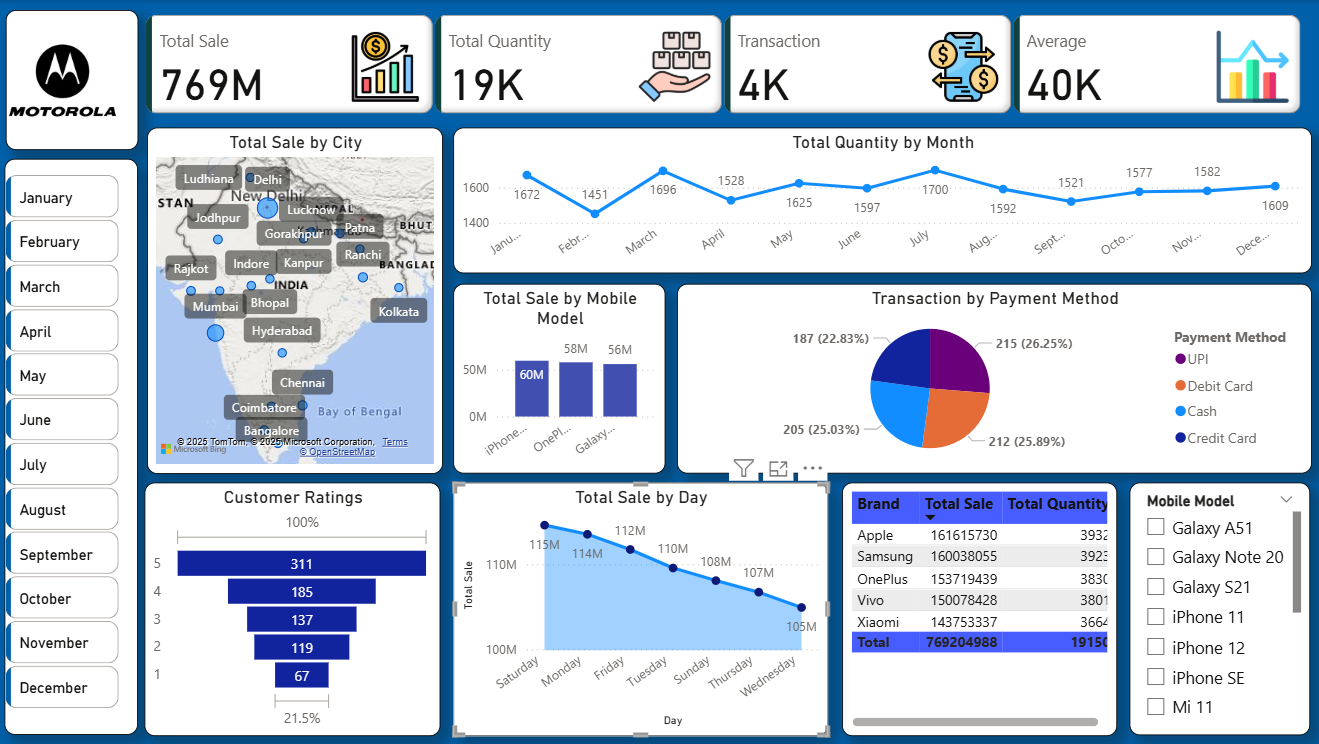

What the dashboard file says about the page in this screenshot:
{"tool":"powerbi","page":{"name":"Page 1","canvas":[1280,720],"ordinal":0},"visuals":[{"type":"shape","box":[8.4,9.7,127.9,135.1],"z":0},{"type":"image","box":[1.4,15.7,124.3,124.3],"z":1000},{"type":"shape","box":[7.2,153.2,129.1,556.2],"z":2000},{"type":"advancedSlicerVisual","fields":{"Values":["Mobile Sales Data.Date.Variation.Date Hierarchy.Month"]},"box":[4.1,164.7,119.4,526.9],"z":3000},{"type":"cardVisual","fields":{"Data":["Mobile Sales Data.Total Sale","Mobile Sales Data.Total Quantity","Mobile Sales Data.Transaction","Mobile Sales Data.Average"]},"box":[138.6,10,1124.3,105.7],"z":4000},{"type":"map","fields":{"Category":["Mobile Sales Data.City"],"Size":["Mobile Sales Data.Total Sale"]},"box":[144.8,123.1,285.9,334.2],"z":5000},{"type":"lineChart","fields":{"Category":["Mobile Sales Data.Date.Variation.Date Hierarchy.Month","Mobile Sales Data.Date.Variation.Date Hierarchy.Day"],"Y":["Mobile Sales Data.Total Quantity"]},"box":[440.4,123.1,828.8,141.2],"z":6000},{"type":"columnChart","fields":{"Category":["Mobile Sales Data.Mobile Model"],"Y":["Mobile Sales Data.Total Sale"]},"box":[440.4,273.9,205.1,183.4],"z":7000},{"type":"pieChart","fields":{"Category":["Mobile Sales Data.Payment Method"],"Y":["Mobile Sales Data.Transaction"]},"box":[656.3,273.9,612.9,183.4],"z":8000},{"type":"funnel","title":"Customer Ratings","fields":{"Category":["Mobile Sales Data.Customer Ratings"],"Y":["CountNonNull(Mobile Sales Data.Customer Ratings)"]},"box":[142.4,465.7,285.9,244.9],"z":9000},{"type":"areaChart","fields":{"Category":["Mobile Sales Data.Day Name"],"Y":["Mobile Sales Data.Total Sale"]},"box":[440.4,465.7,361.9,244.9],"z":10000},{"type":"tableEx","fields":{"Values":["Mobile Sales Data.Brand","Mobile Sales Data.Total Sale","Mobile Sales Data.Total Quantity"]},"box":[815.6,465.7,265.4,244.9],"z":11000},{"type":"slicer","fields":{"Values":["Mobile Sales Data.Mobile Model"]},"box":[1092.9,465.7,174.3,244.3],"z":12000}]}

Visuals, with their boxes in screenshot pixels (x1, y1, x2, y2), scaled from the page's 1280x720 canvas onto the 1319x744 screenshot:
shape: (left=9, top=10, right=140, bottom=150)
image: (left=1, top=16, right=130, bottom=145)
shape: (left=7, top=158, right=140, bottom=733)
advancedSlicerVisual - Mobile Sales Data.Date.Variation.Date Hierarchy.Month: (left=4, top=170, right=127, bottom=715)
cardVisual - Mobile Sales Data.Total Sale x Mobile Sales Data.Total Quantity: (left=143, top=10, right=1301, bottom=120)
map - Mobile Sales Data.City x Mobile Sales Data.Total Sale: (left=149, top=127, right=444, bottom=473)
lineChart - Mobile Sales Data.Date.Variation.Date Hierarchy.Month x Mobile Sales Data.Date.Variation.Date Hierarchy.Day: (left=454, top=127, right=1308, bottom=273)
columnChart - Mobile Sales Data.Mobile Model x Mobile Sales Data.Total Sale: (left=454, top=283, right=665, bottom=473)
pieChart - Mobile Sales Data.Payment Method x Mobile Sales Data.Transaction: (left=676, top=283, right=1308, bottom=473)
"Customer Ratings" funnel: (left=147, top=481, right=441, bottom=734)
areaChart - Mobile Sales Data.Day Name x Mobile Sales Data.Total Sale: (left=454, top=481, right=827, bottom=734)
tableEx - Mobile Sales Data.Brand x Mobile Sales Data.Total Sale: (left=840, top=481, right=1114, bottom=734)
slicer - Mobile Sales Data.Mobile Model: (left=1126, top=481, right=1306, bottom=734)
